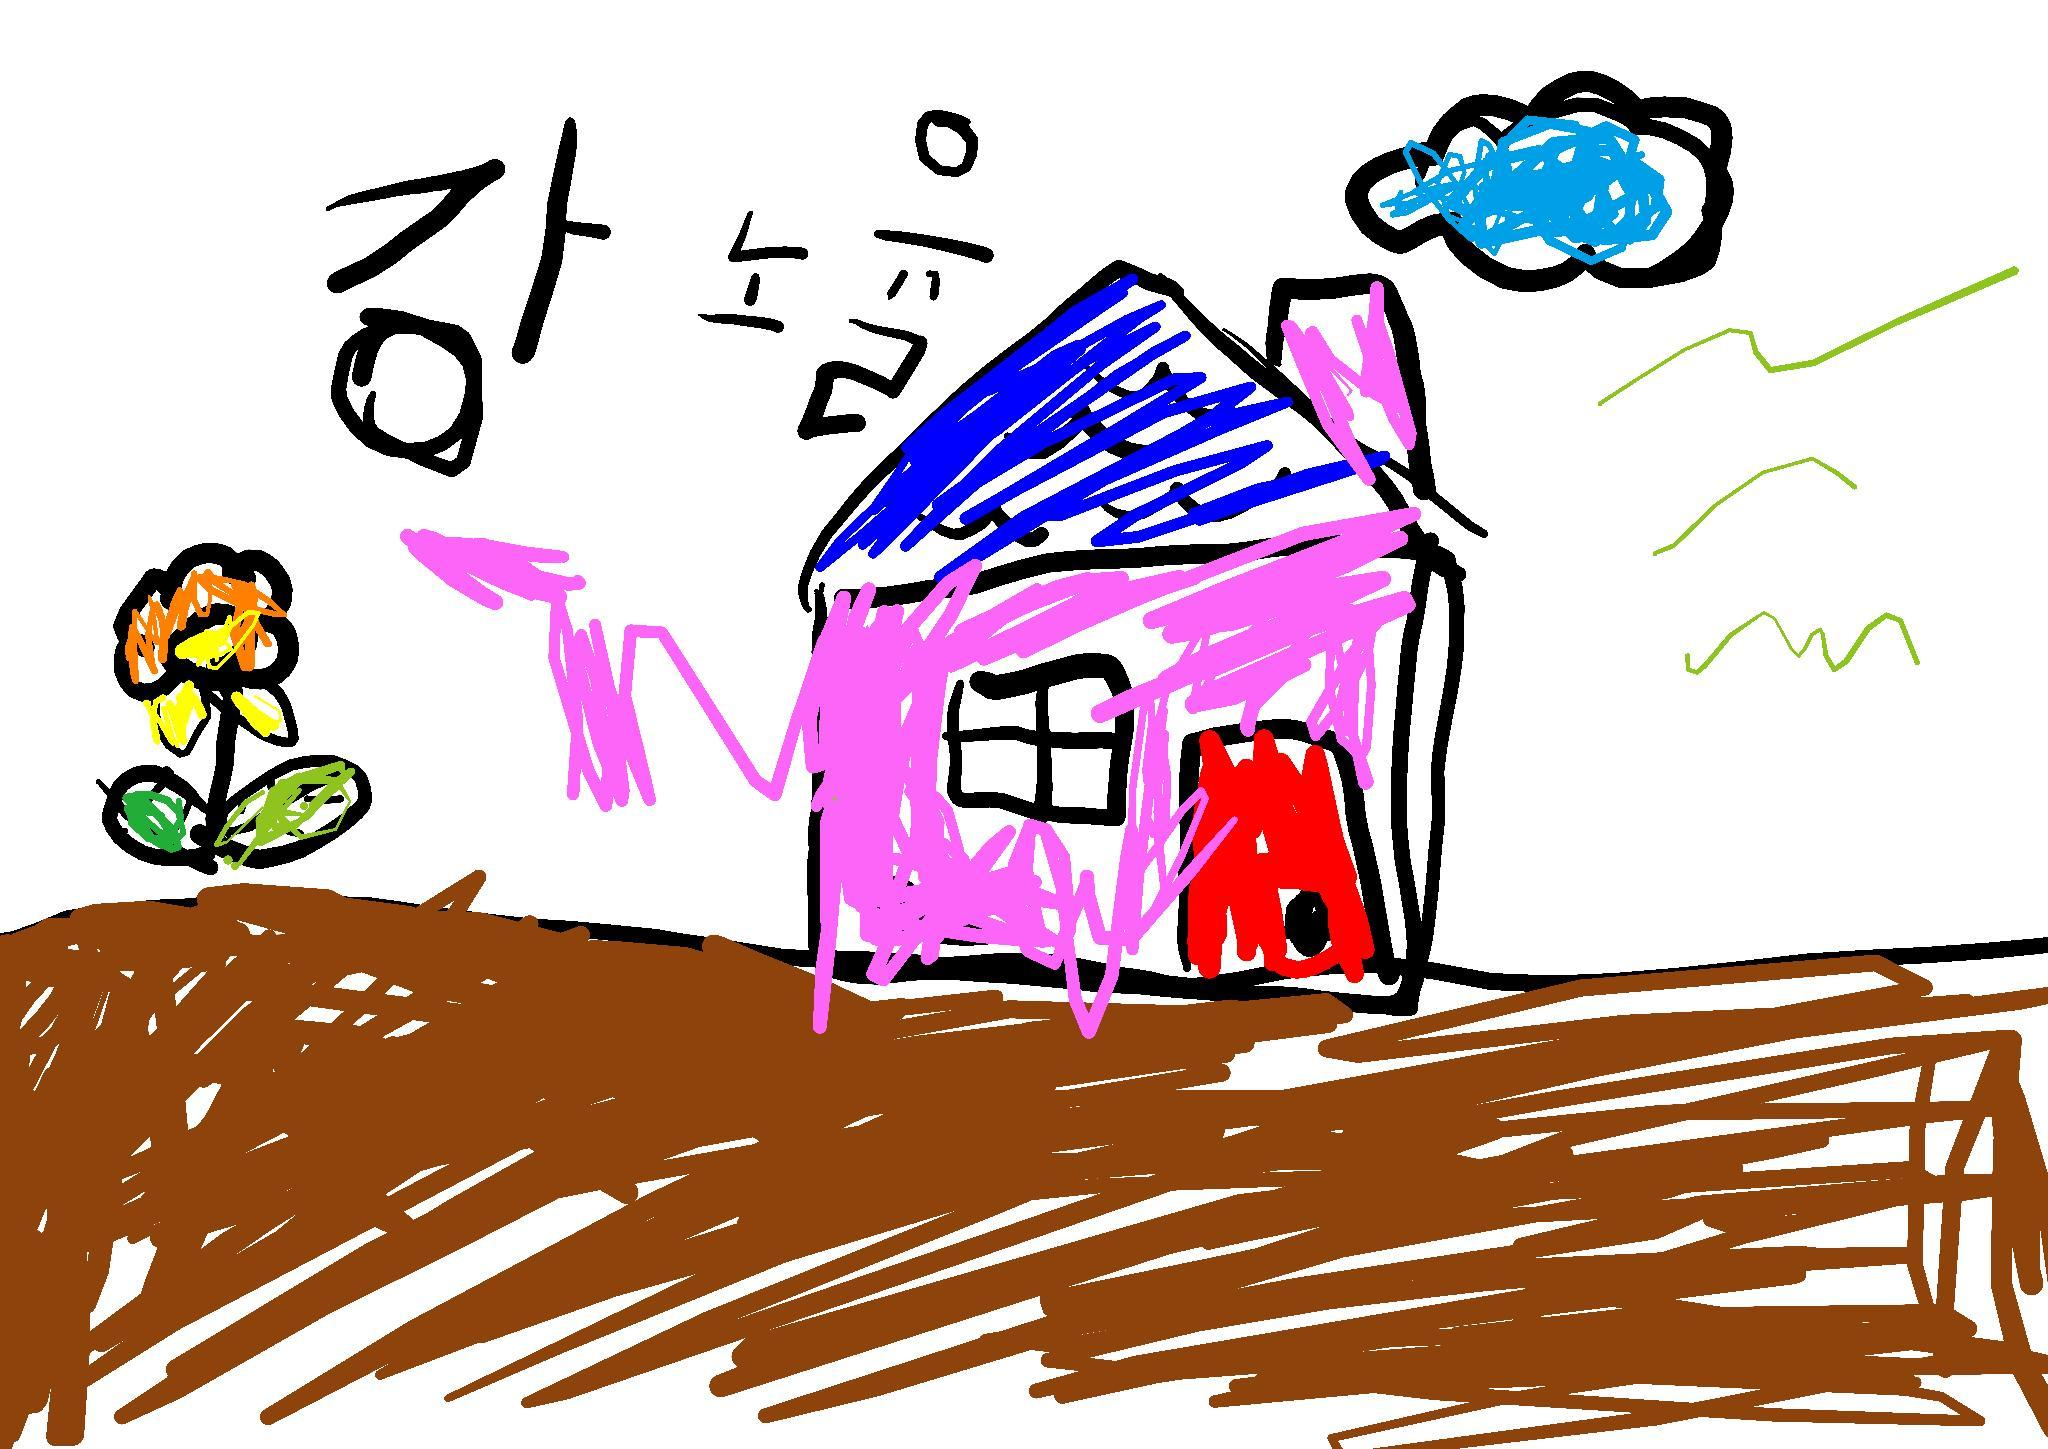chimney: (1264, 270, 1447, 494)
door: (1182, 721, 1397, 991)
house: (790, 254, 1496, 1024)
roof: (795, 256, 1493, 610)
wall: (814, 547, 1457, 1011)
window: (946, 649, 1142, 831)
